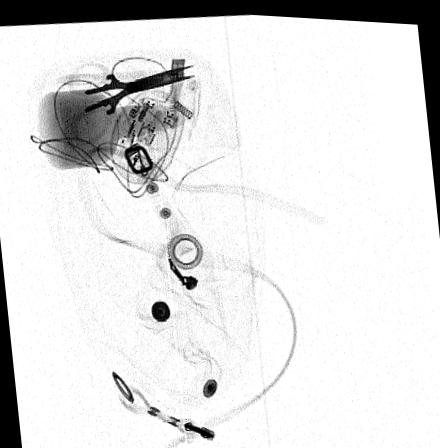Scissors: (63, 58, 199, 144)
